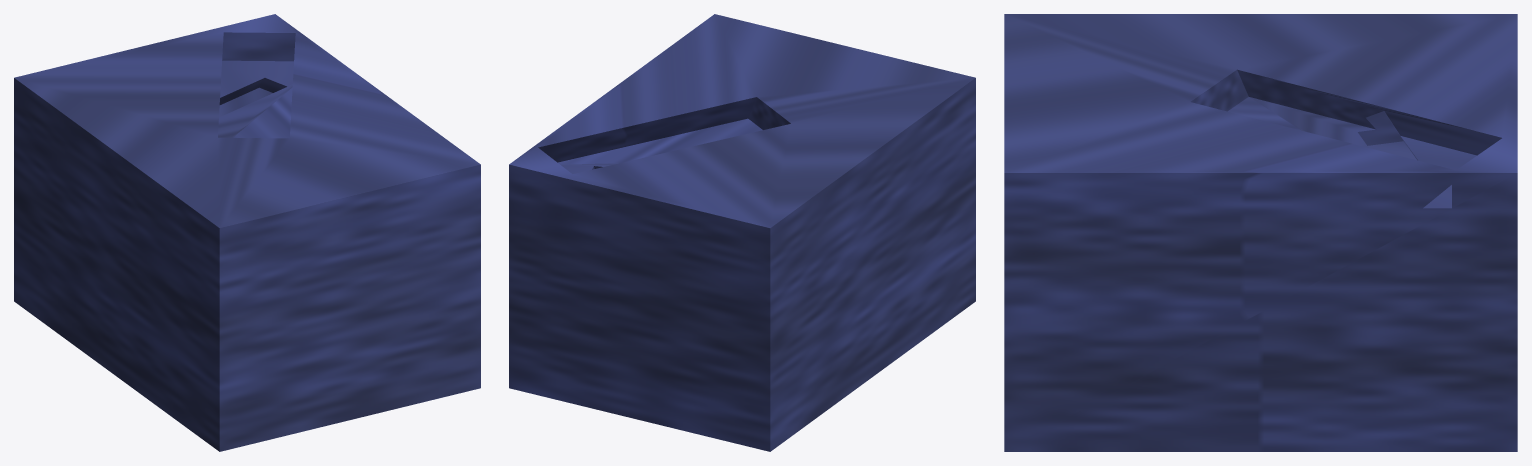
3 renders of one model, left to right at view 1: azimuth 30°, elevation 25°; view 2: azimuth 150°, elevation 25°; view 3: azimuth 270°, elevation 25°, orthographic. The views are drawn at different scales.
Visible parts, largest first — view 1: geometry_0; view 2: geometry_0; view 3: geometry_0.
Boxes of the visible parts, box(x1,y1,x2,y2) form: geometry_0: box(14, 14, 480, 451); geometry_0: box(509, 14, 975, 451); geometry_0: box(1004, 14, 1517, 451).
Bounding box in the file's own units: 0.8941 × 0.7316 × 1.22.
1 material, 1 textured.
